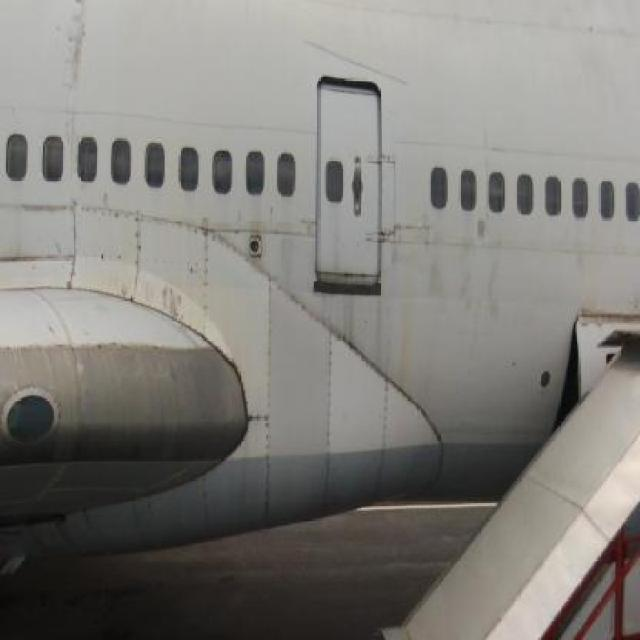Missing-Rivet: (199, 226, 218, 339), (126, 210, 143, 301)
Rust: (393, 285, 418, 403), (240, 201, 278, 239), (340, 283, 360, 354), (322, 254, 380, 278)
Scartch: (419, 228, 510, 334), (138, 271, 202, 334), (64, 10, 90, 95), (20, 190, 80, 219)
